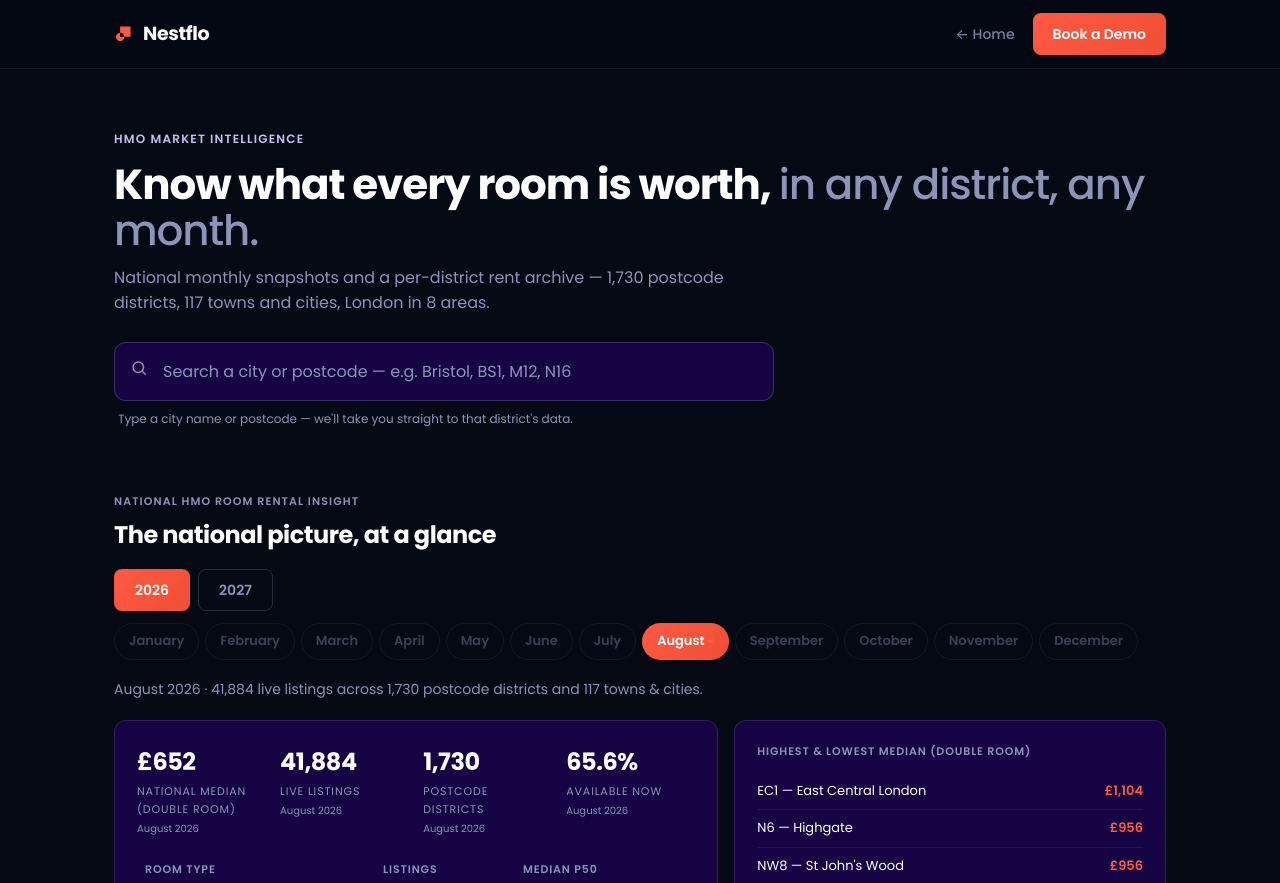
Test case: AC-9/AC-10 edition navigator › re-selects the latest available edition when switching year back to 2026
What coordinates should you click on to do the following:
click the button "2027"
I would click on:
 (236, 590)
Its box is [198,568,273,611].
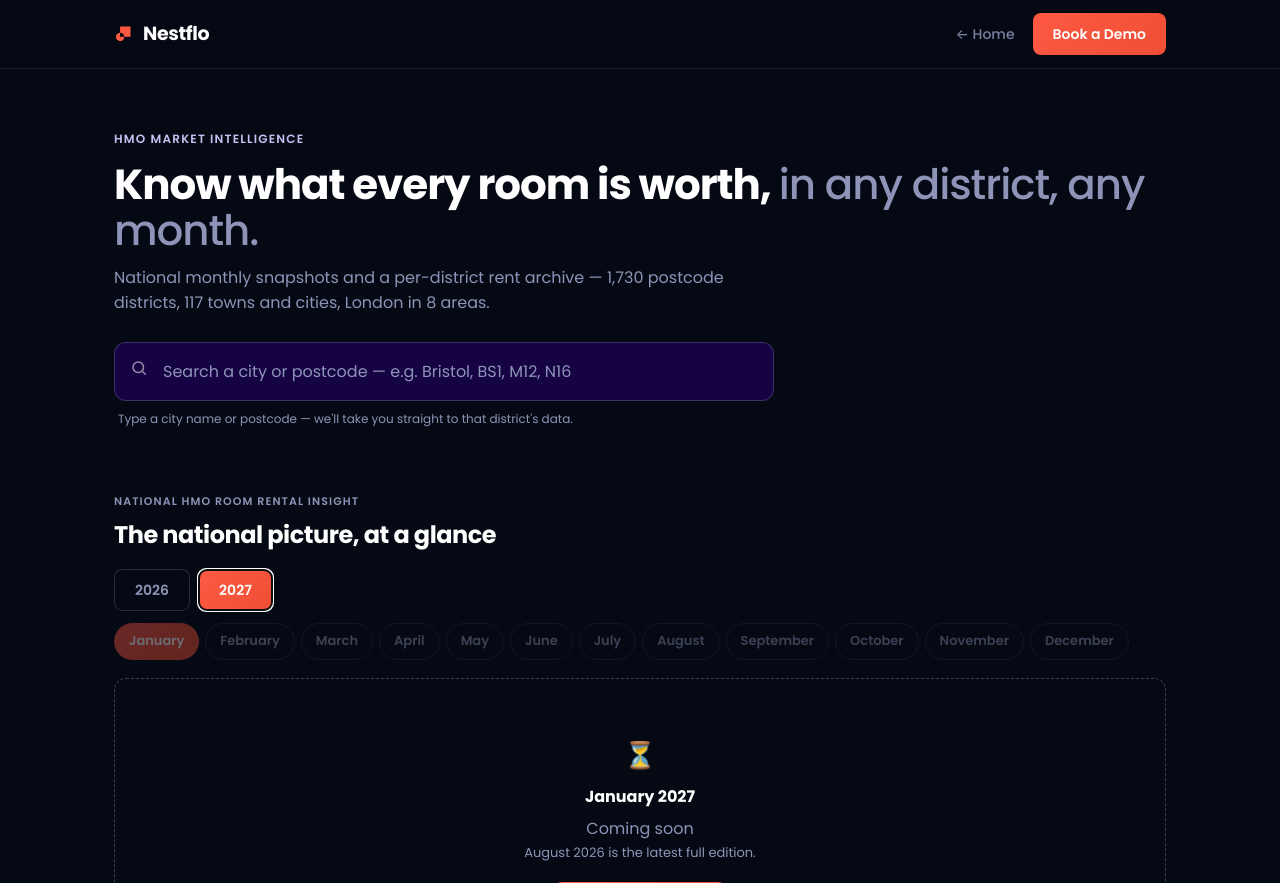
What coordinates should you click on to do the following:
click the button "2026"
I would click on:
 (152, 590)
Its box is [114,568,190,611].
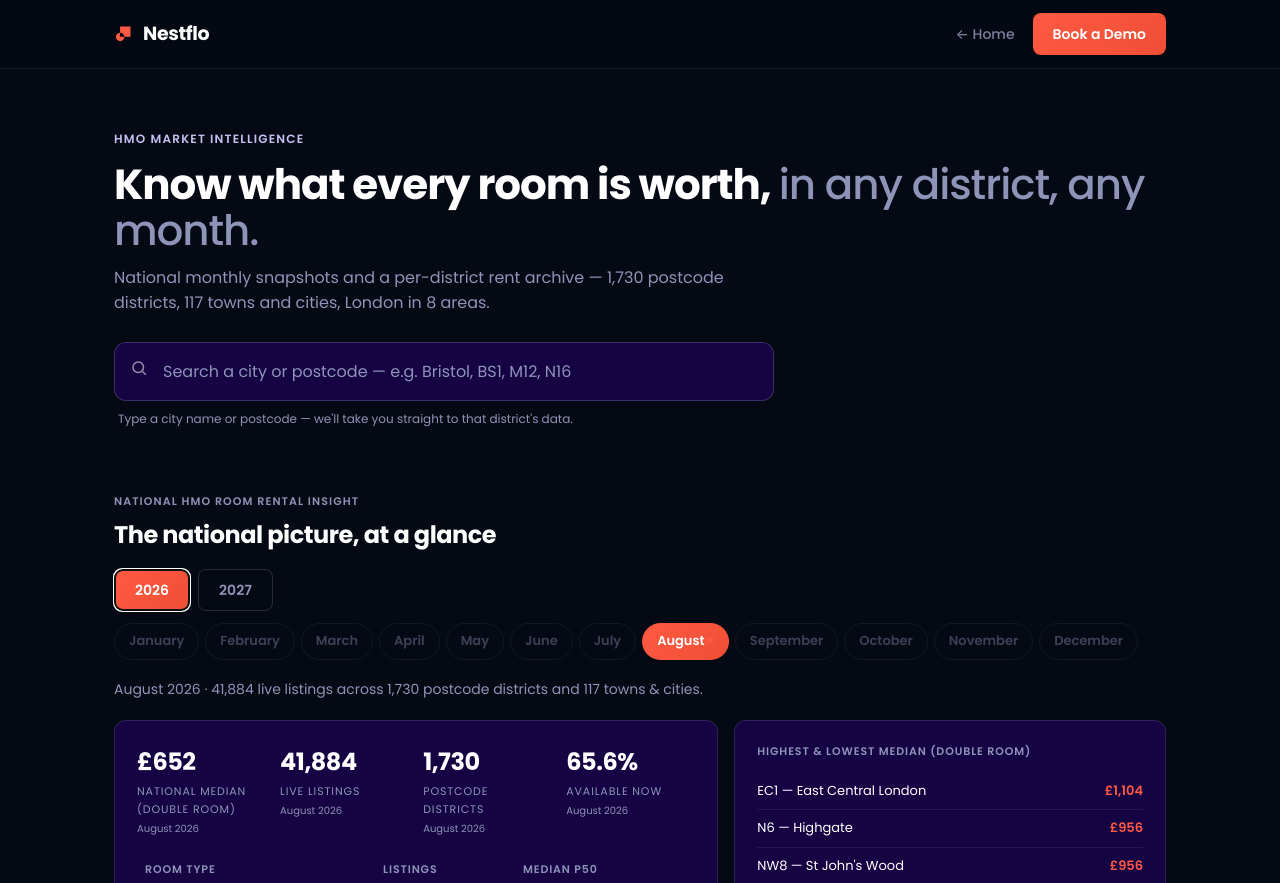
Expected: the element with test id "md-kpi-median" shows "£652", [137,745,196,778]
